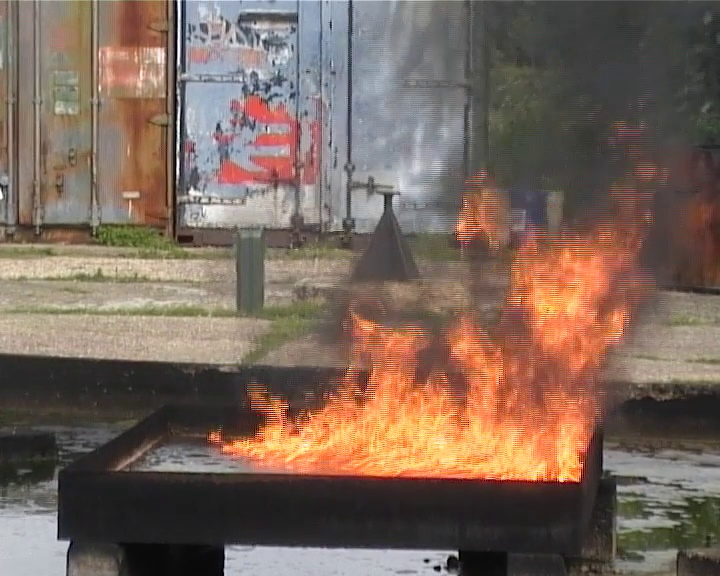fire: (221, 255, 625, 477)
